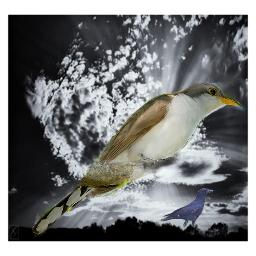Crow: (160, 188, 213, 231)
Cuckoo: (28, 80, 247, 238)
